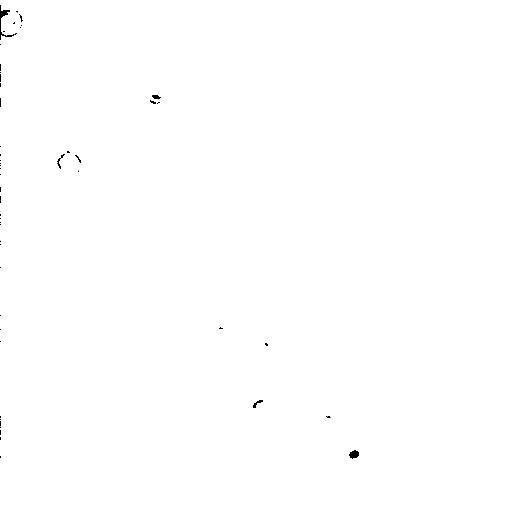micro-algae: (332, 202, 427, 296), (175, 87, 235, 153), (57, 342, 117, 407), (19, 253, 81, 314), (2, 401, 46, 449), (339, 436, 367, 471), (54, 149, 80, 179), (255, 324, 284, 350), (0, 4, 23, 36), (253, 393, 272, 416), (0, 67, 11, 99)
